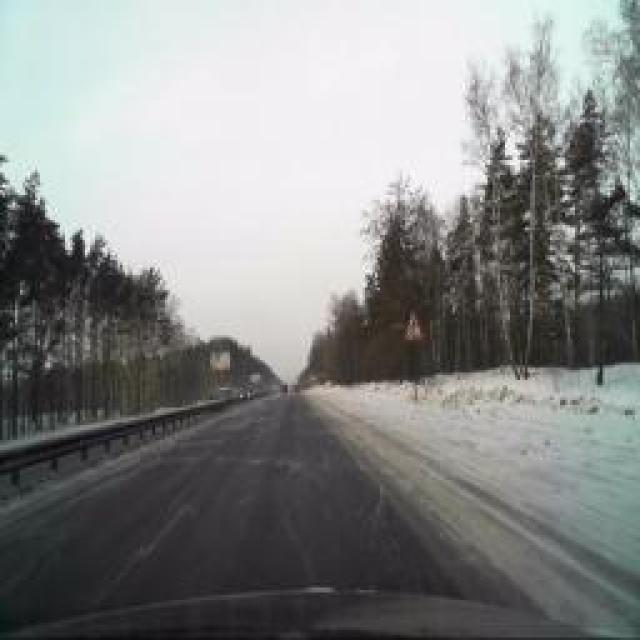sign: (404, 308, 424, 344)
